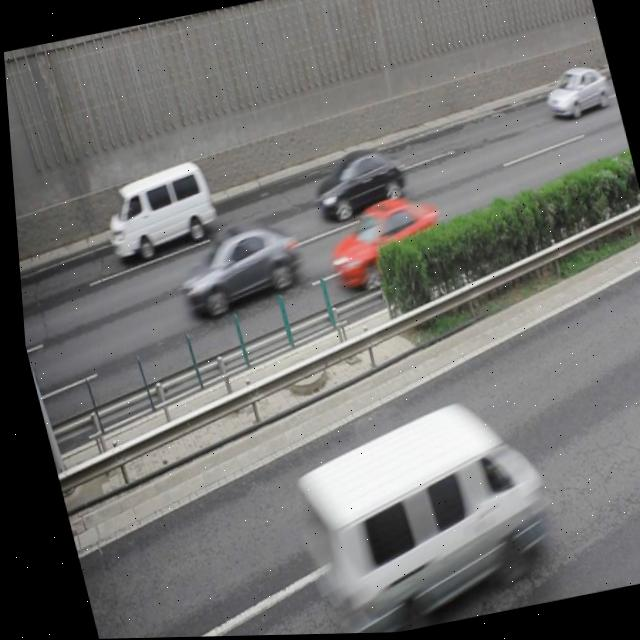car: (166, 221, 305, 320), (314, 195, 446, 292), (304, 141, 408, 225), (537, 62, 608, 121)
truck: (271, 390, 553, 635), (93, 157, 217, 266)
